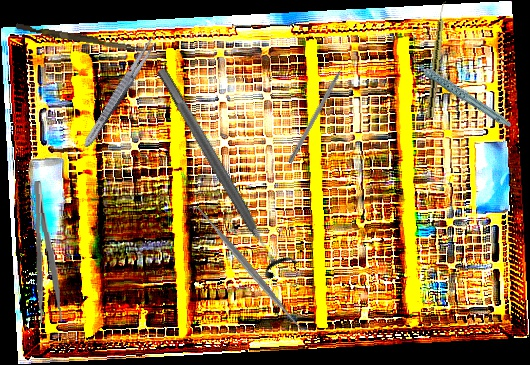Dressing Forceps: (80, 32, 161, 151), (30, 179, 64, 324)
Fixation Ring: (145, 59, 299, 282)
Handpiece: (409, 37, 513, 146), (426, 0, 448, 119)
Hook Surgical: (287, 53, 352, 165)
Pusher: (15, 23, 152, 54)
Spatula Surgical: (186, 196, 311, 340)
